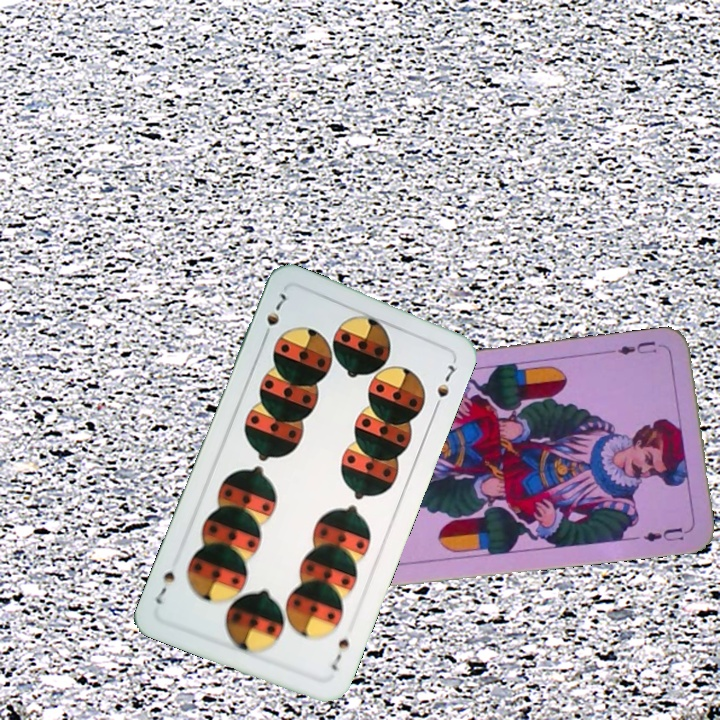EU: (609, 337, 668, 358)
S7: (259, 289, 289, 343), (327, 634, 352, 674)
